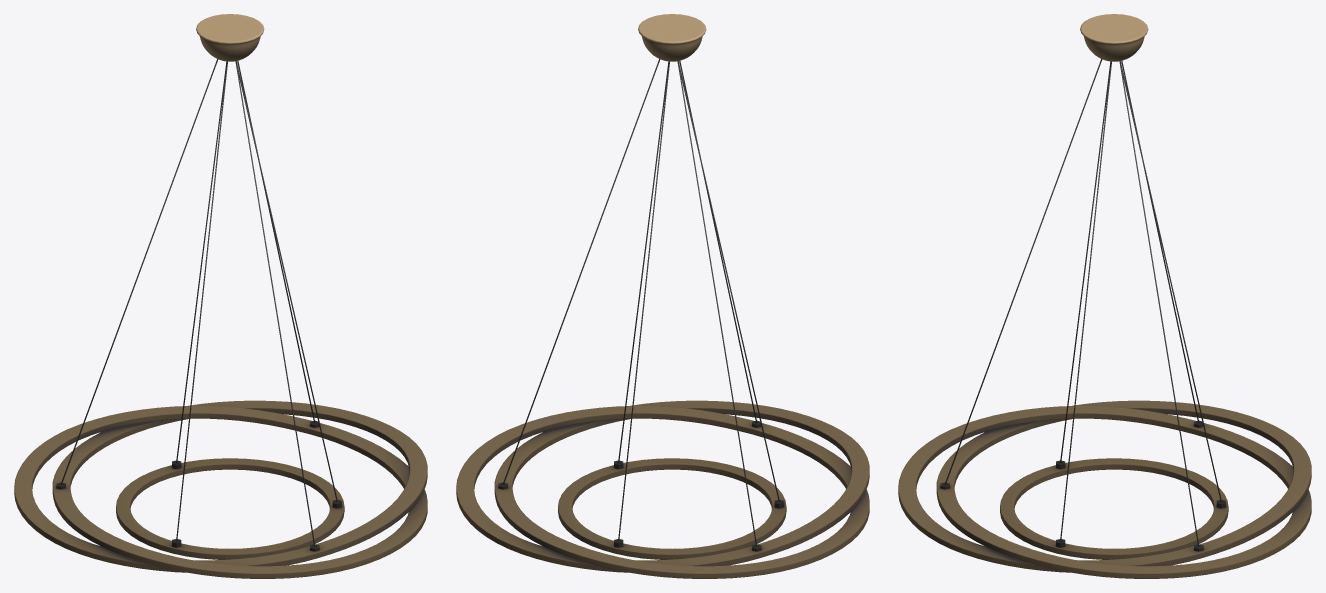
The model's file is chandelier_5.glb.
3 renders of one model, left to right at view 1: azimuth 30°, elevation 25°; view 2: azimuth 150°, elevation 25°; view 3: azimuth 270°, elevation 25°, orthographic.
Visible parts, largest first — view 1: hei; view 2: hei; view 3: hei.
Part boxes in pixels (x1,y1,x2,y2): hei: [14, 14, 427, 578]; hei: [456, 14, 869, 578]; hei: [898, 14, 1311, 578].
Bounding box in the file's own units: 0.0235 × 0.0298 × 0.023.
1 material, 1 textured.
